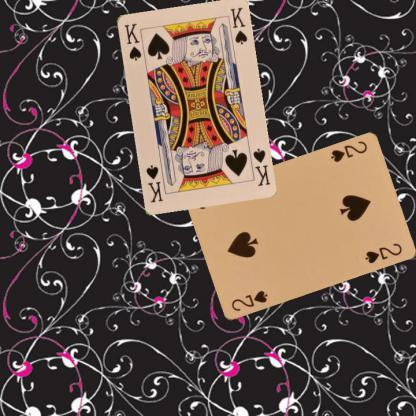2s: (228, 288, 269, 314), (328, 139, 368, 164)
Ks: (121, 20, 143, 62), (250, 146, 271, 188)
